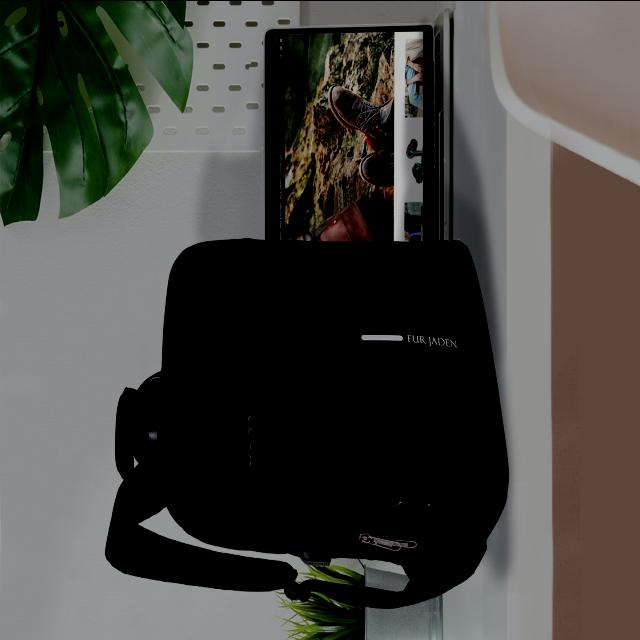backpack: (105, 238, 510, 610)
